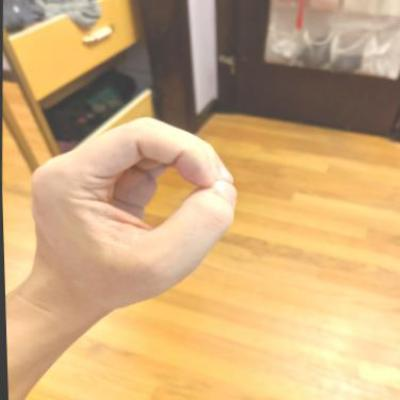hand: (17, 107, 248, 324)
